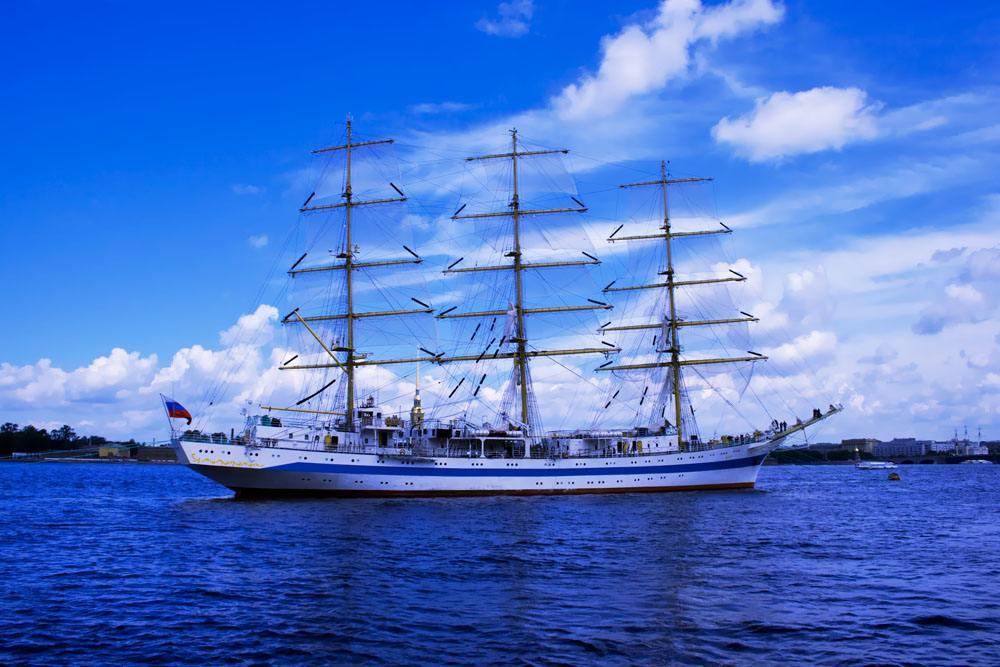youlun: (168, 104, 839, 493)
